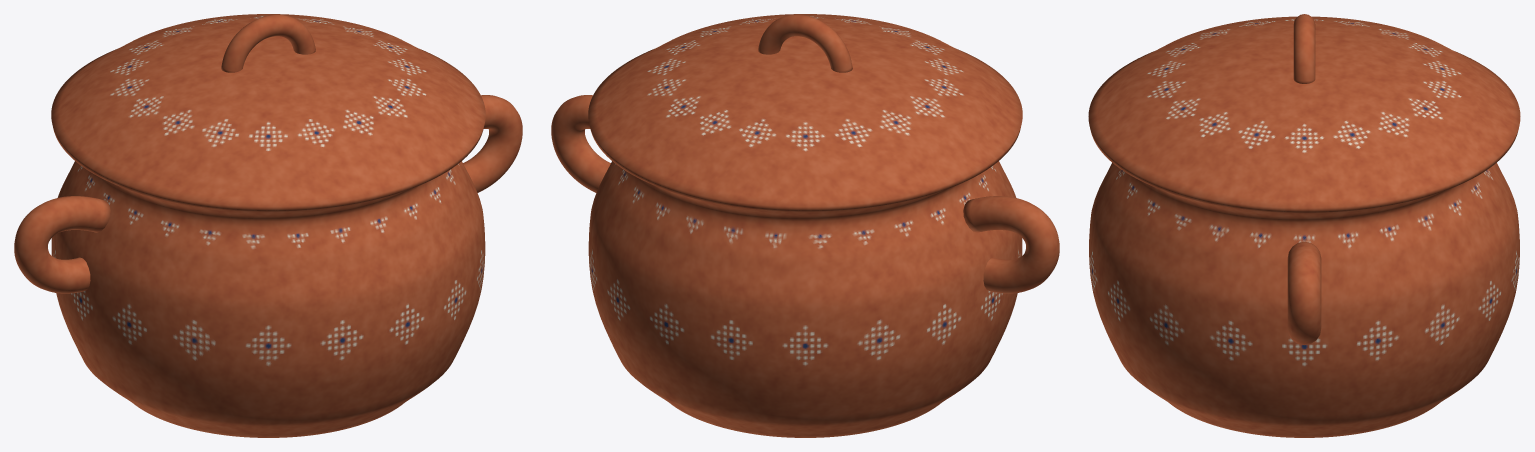
The model's file is olla_barro.gltf.
3 views of the same model, side by side, from view 1: azimuth 30°, elevation 25°; view 2: azimuth 150°, elevation 25°; view 3: azimuth 270°, elevation 25° (orthographic).
Visible parts, largest first — view 1: olla_barro.001, tapa, asa_olla, asa_olla.001, asa_tapa; view 2: olla_barro.001, tapa, asa_olla, asa_olla.001, asa_tapa; view 3: olla_barro.001, tapa, asa_olla.001, asa_tapa.
Boxes of the visible parts, x1,y1,x2,y2 form: olla_barro.001: (51,161,485,437); tapa: (51,14,485,211); asa_olla: (14,196,110,293); asa_olla.001: (463,95,522,192); asa_tapa: (221,14,315,72); olla_barro.001: (588,161,1022,437); tapa: (588,14,1022,211); asa_olla: (963,196,1059,293); asa_olla.001: (551,95,610,192); asa_tapa: (758,14,852,72); olla_barro.001: (1089,162,1519,437); tapa: (1088,16,1520,212); asa_olla.001: (1287,241,1321,344); asa_tapa: (1293,14,1315,83).
Bounding box in the file's own units: 0.4797 × 0.3322 × 0.358.
Materials: 3 (3 with a texture image).
